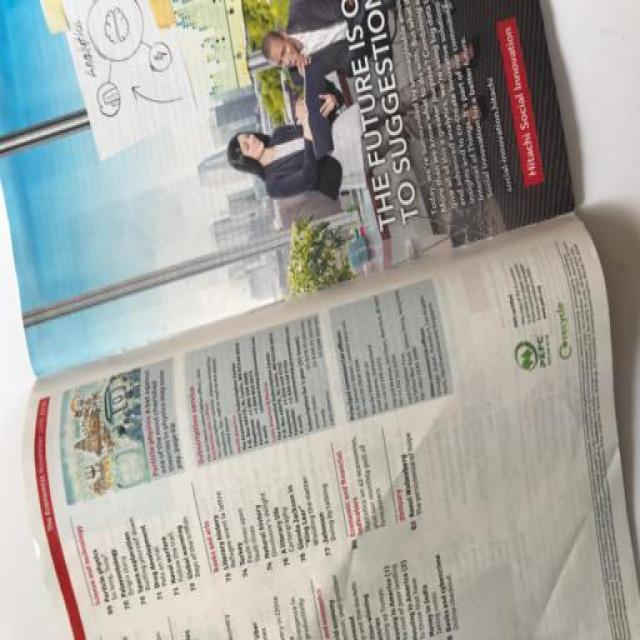paper: (30, 1, 615, 636)
